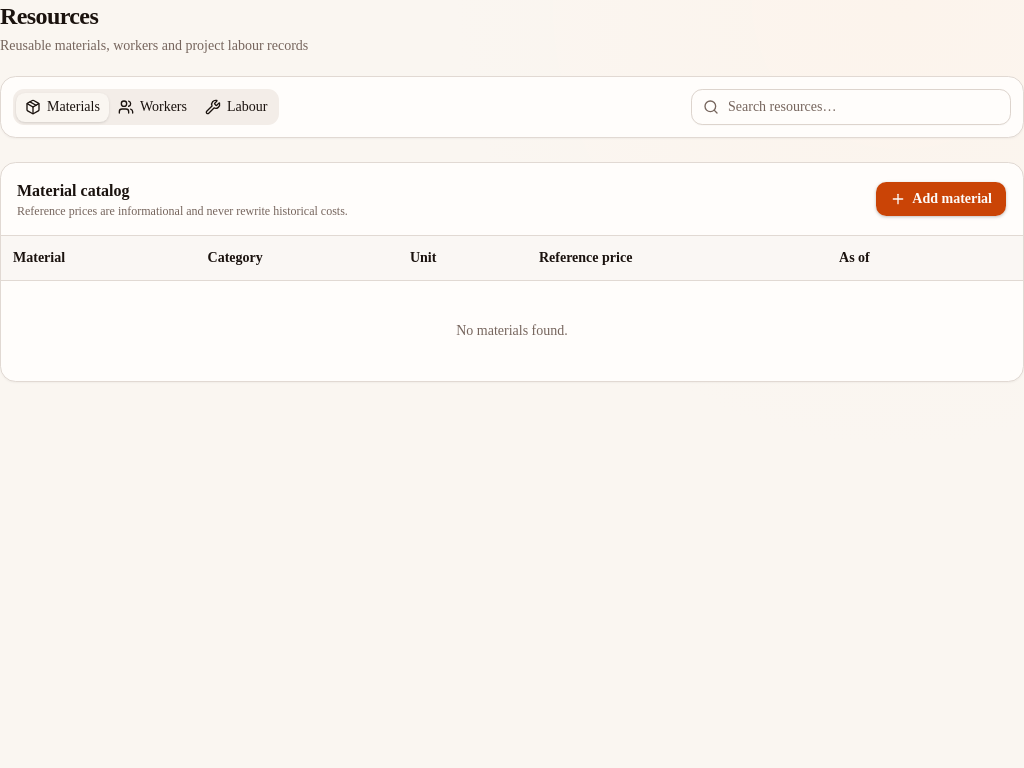
ResourcesView ad-hoc labour form › cannot submit ad-hoc labour without a trade
Click the tab "Labour" at coordinates (236, 107), box [196,92,276,122]
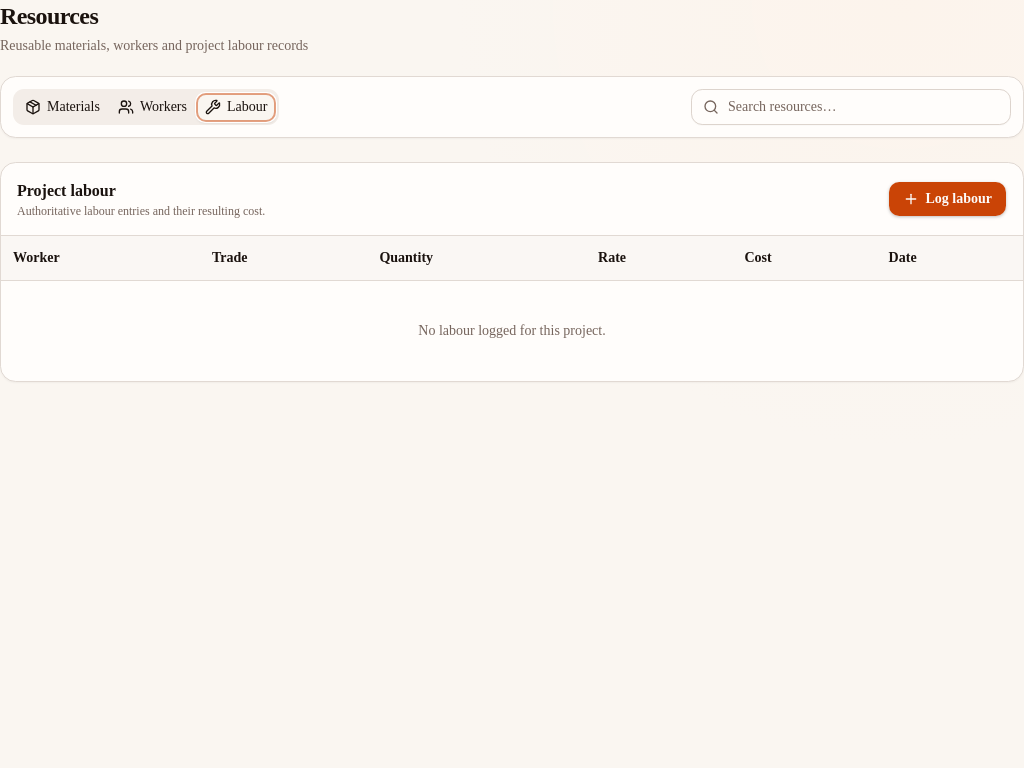
Click the button "Log labour" at coordinates (948, 199), box [888,181,1007,217]
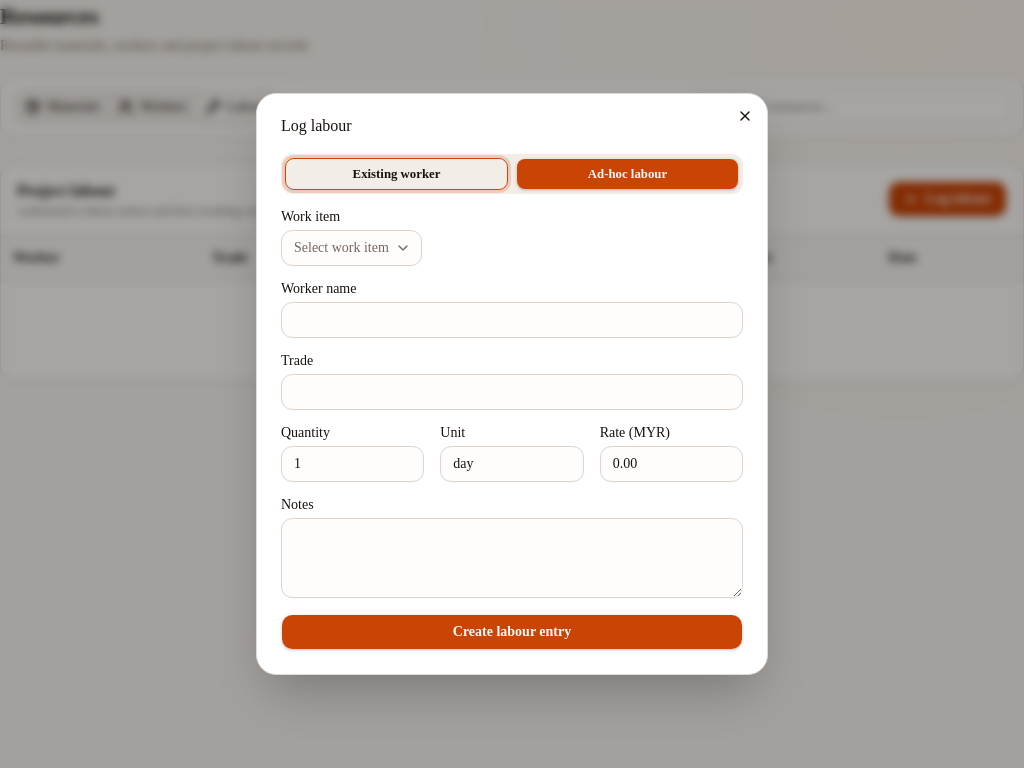
Click the dropdown at coordinates (351, 248), box [281,230,422,266]
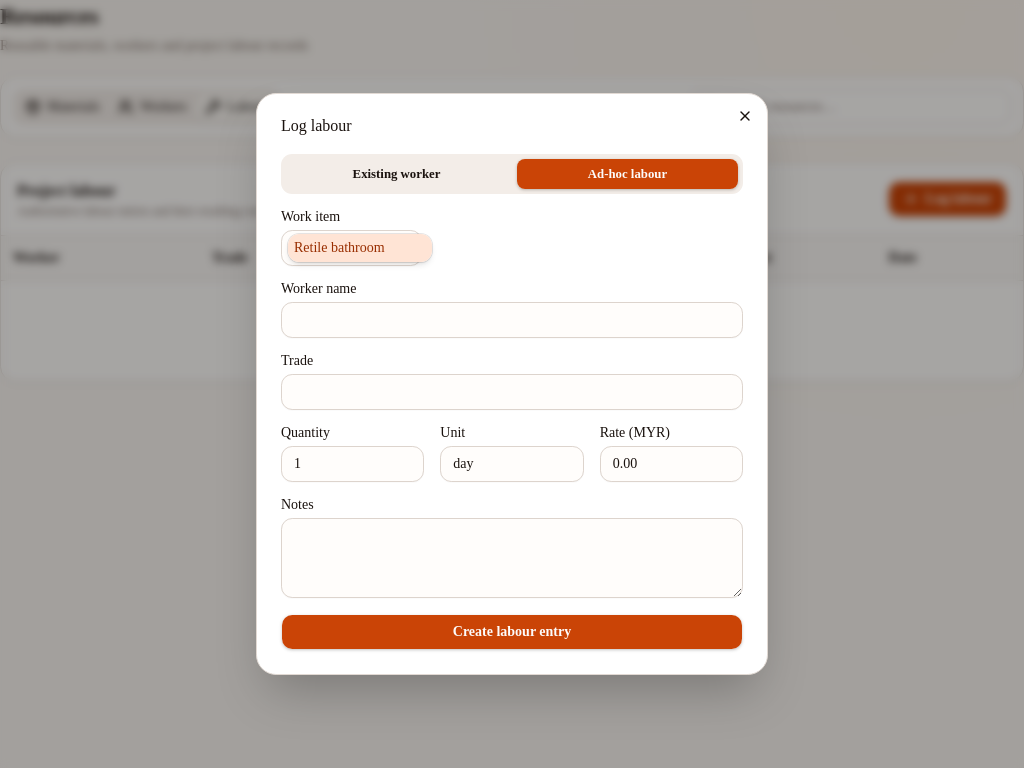
Click the option "Retile bathroom" at coordinates (360, 248), box [288,234,432,262]
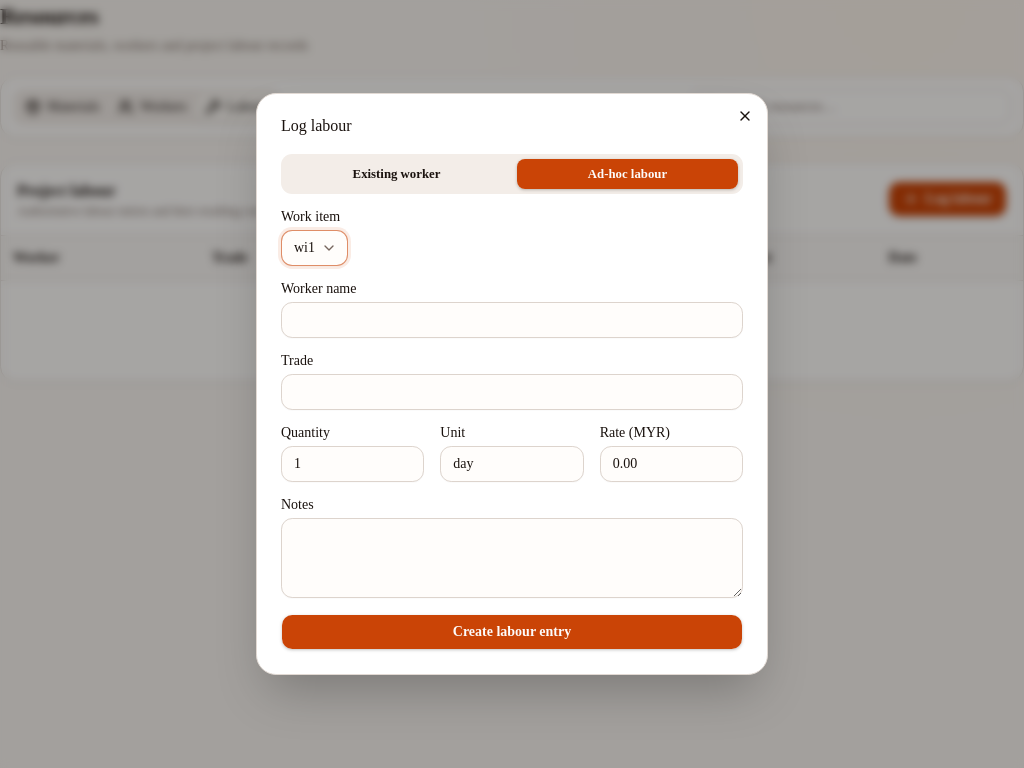
Type "Day Labourer" into the field named "workerName" at coordinates (512, 320), box [281,302,743,338]
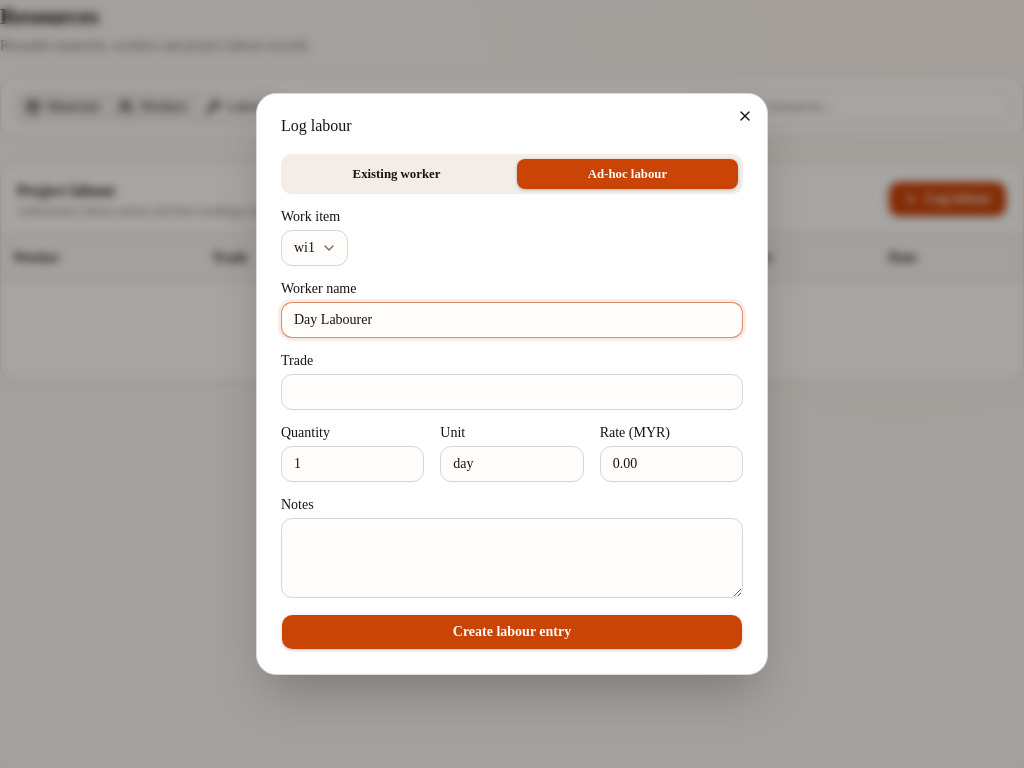
Click the button "Create labour entry" at coordinates (512, 632), box [281,614,743,650]
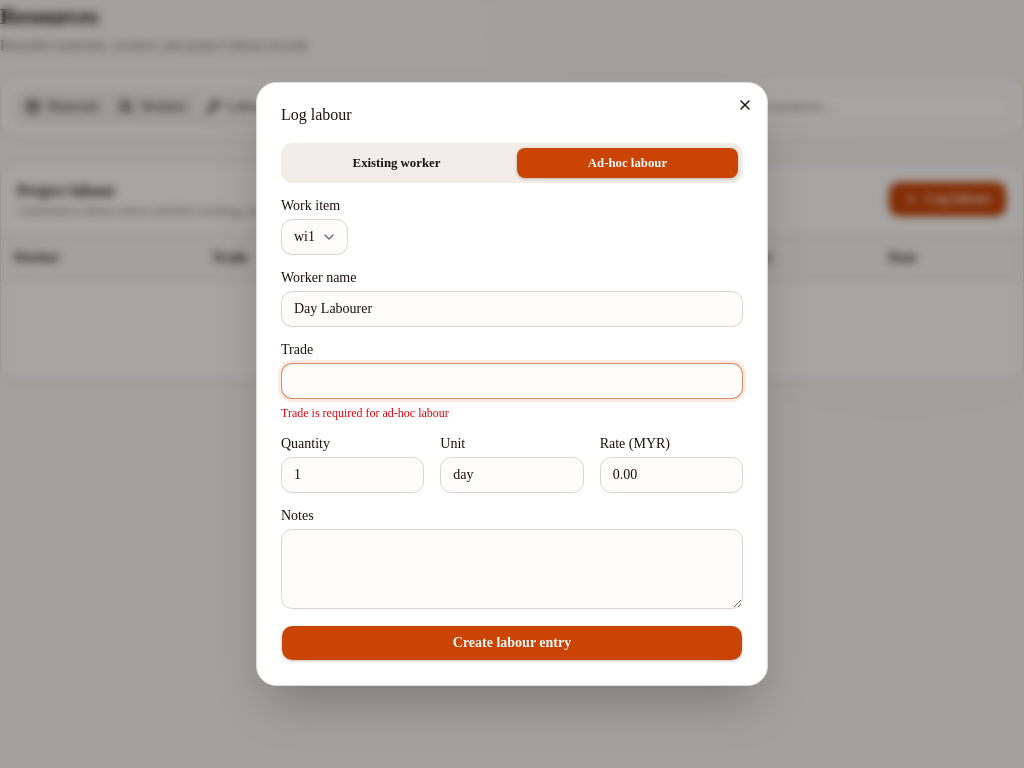
Result: the text "Trade is required for ad-hoc labour" is shown at [281,406,449,420]
